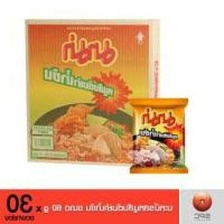book: (18, 12, 166, 171)
snack: (123, 92, 194, 178)
